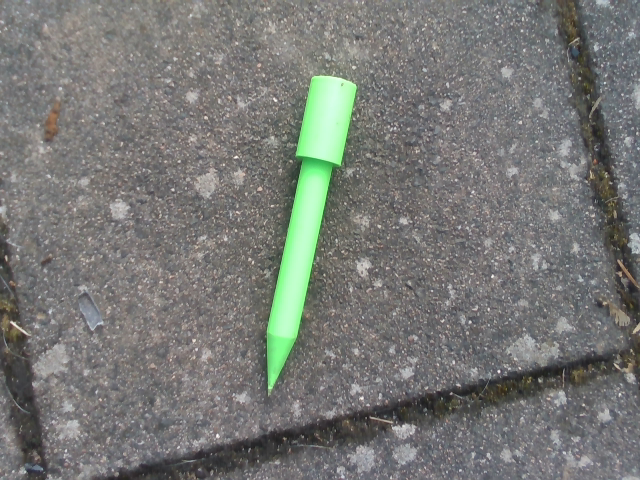Probe: (240, 67, 367, 404)
